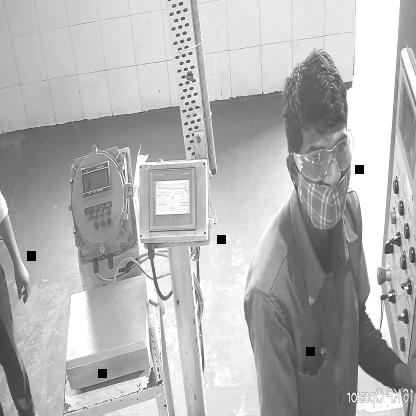goggles: (294, 136, 354, 184)
